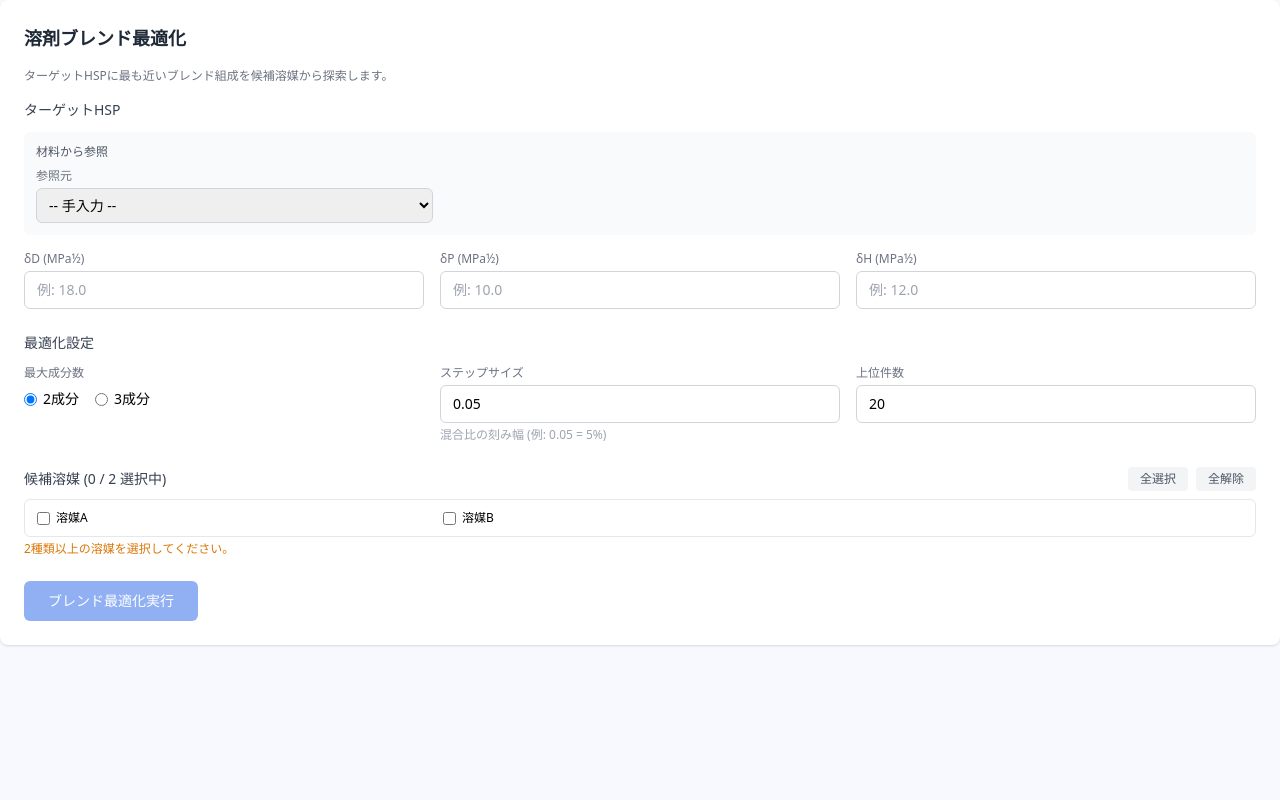
Scenario: BlendOptimizerView › エラー時にエラーメッセージが表示される
This screenshot has width=1280, height=800.
Check: the text "溶媒A" is shown, box [56,510,88,526]
Click the button "全選択" at (1158, 479), box [1128,467,1188,491]
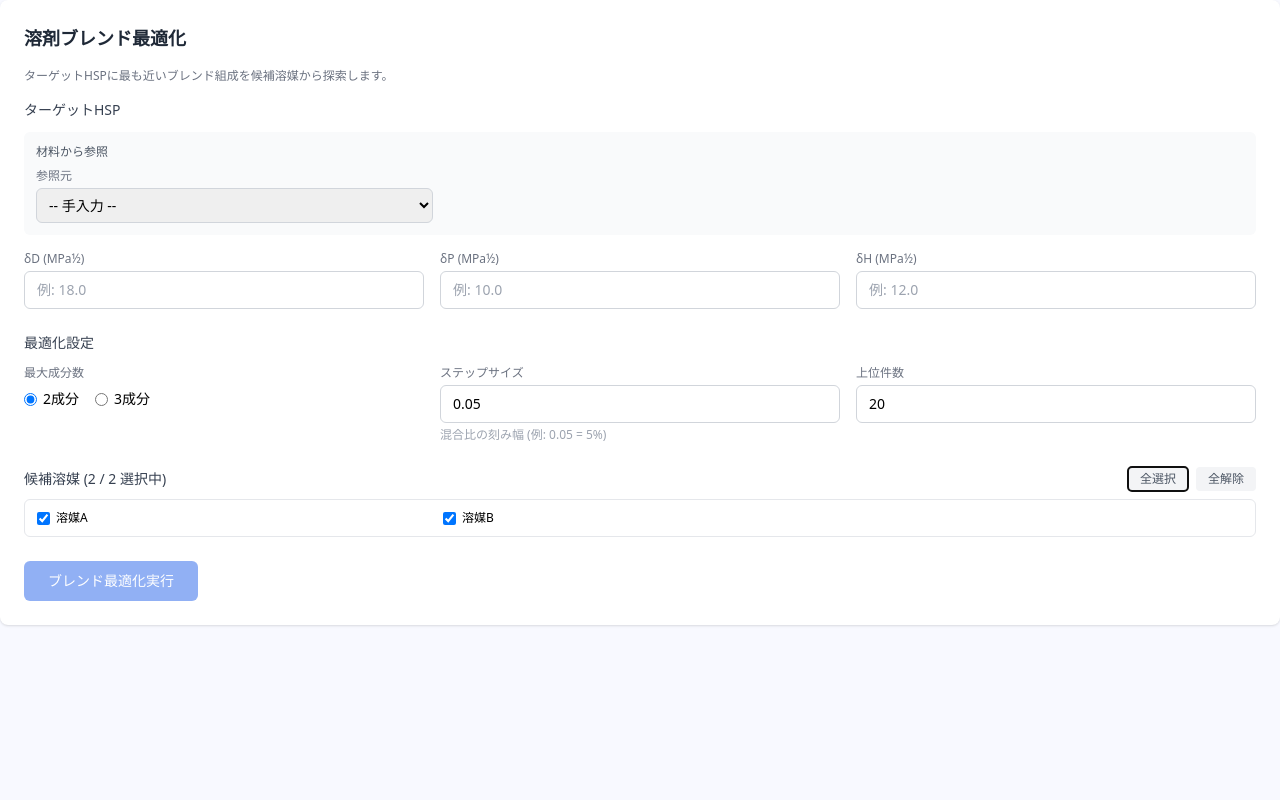
Type "18" into the number field with placeholder "例: 18.0" at (224, 290), box [24,271,424,309]
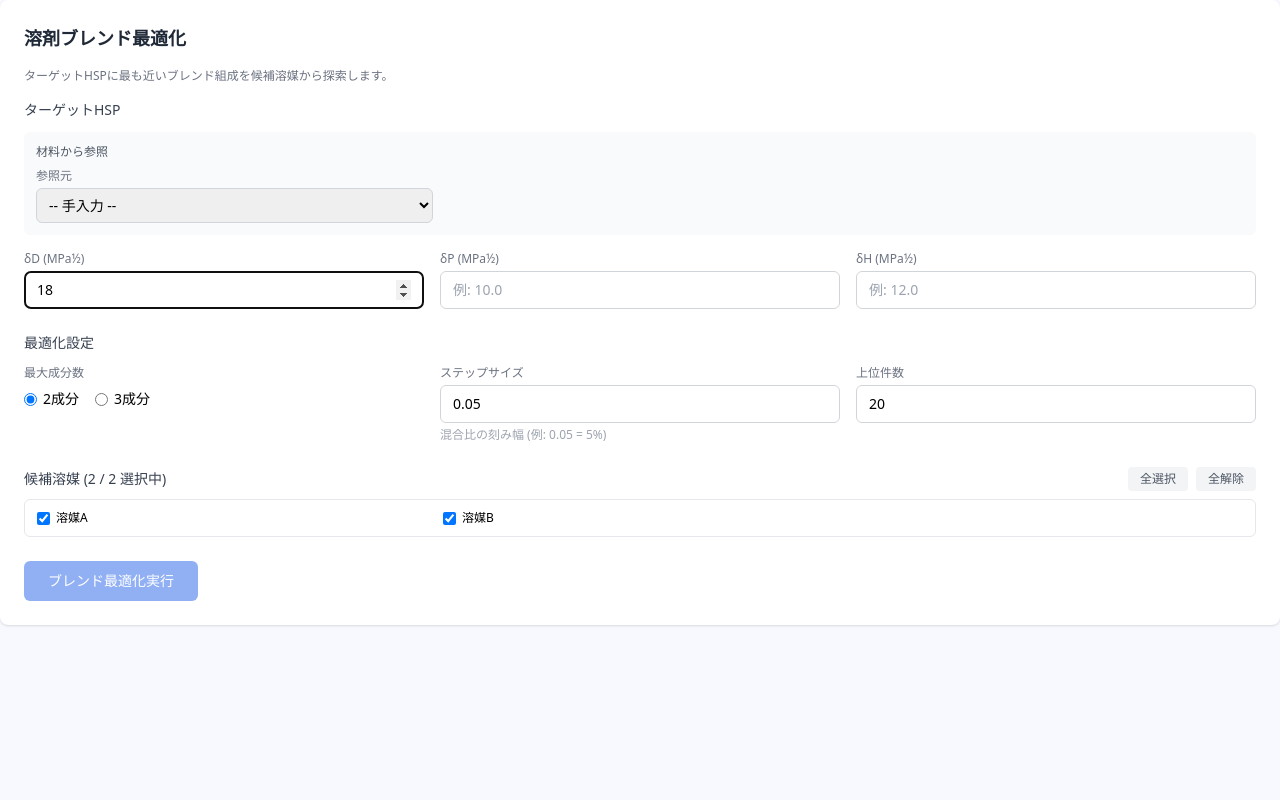
Type "10" into the number field with placeholder "例: 10.0" at (640, 290), box [440,271,840,309]
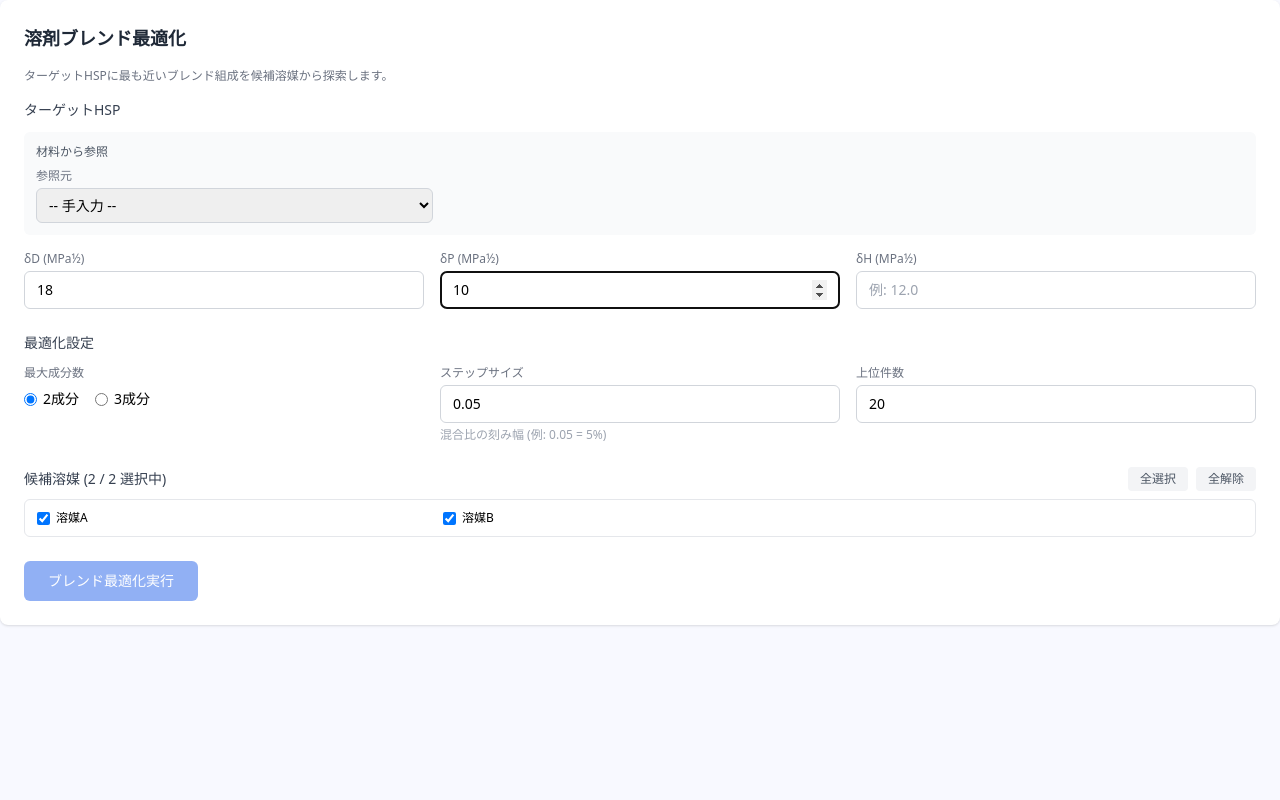
Type "12" into the number field with placeholder "例: 12.0" at (1056, 290), box [856,271,1256,309]
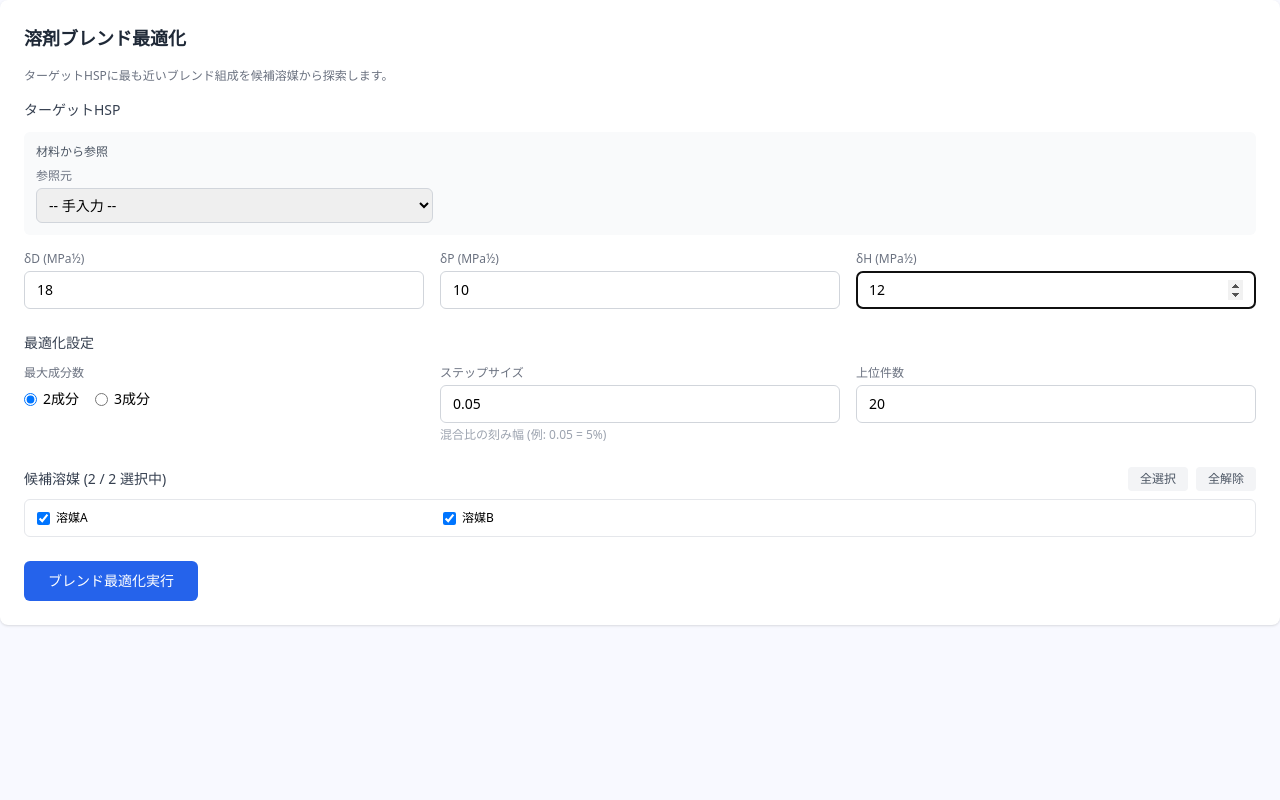
Click the button "ブレンド最適化実行" at (111, 581), box [24,561,198,601]
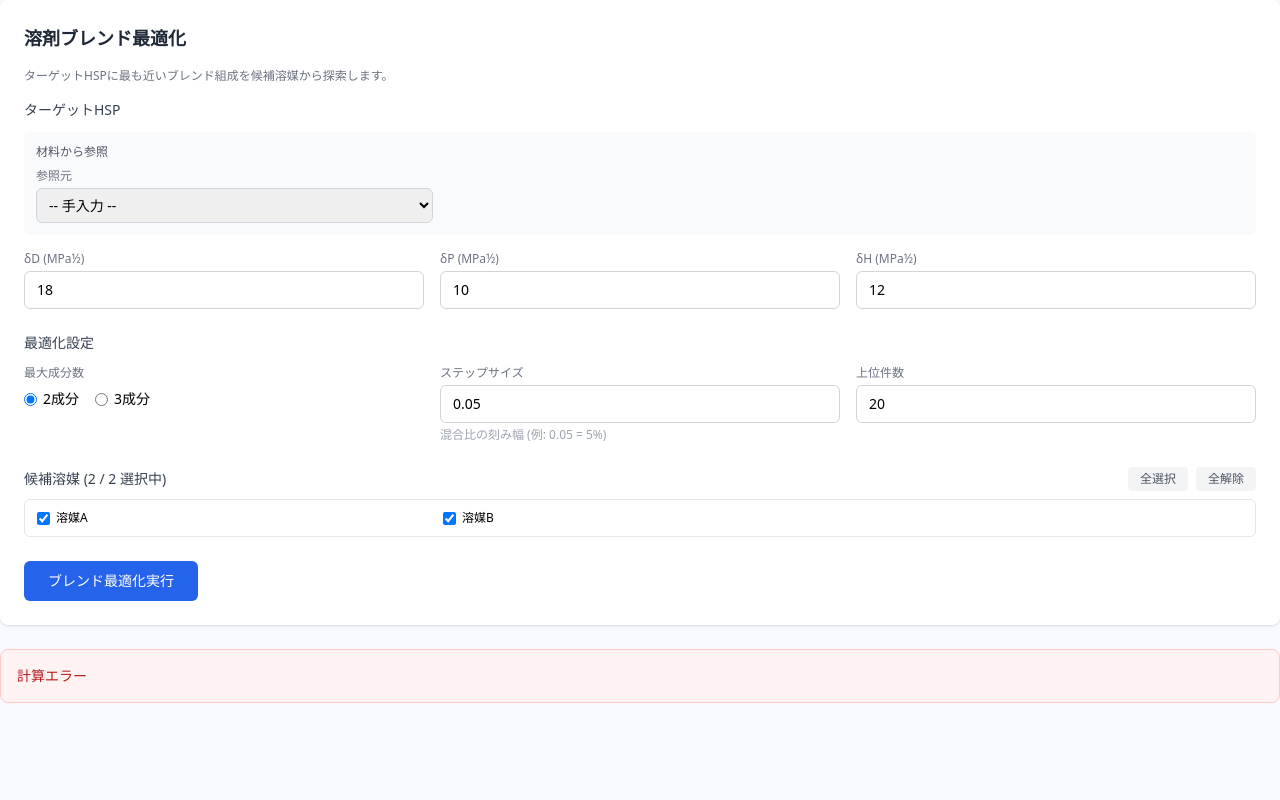
Check: the text "計算エラー" is shown, box [0,649,1279,703]
